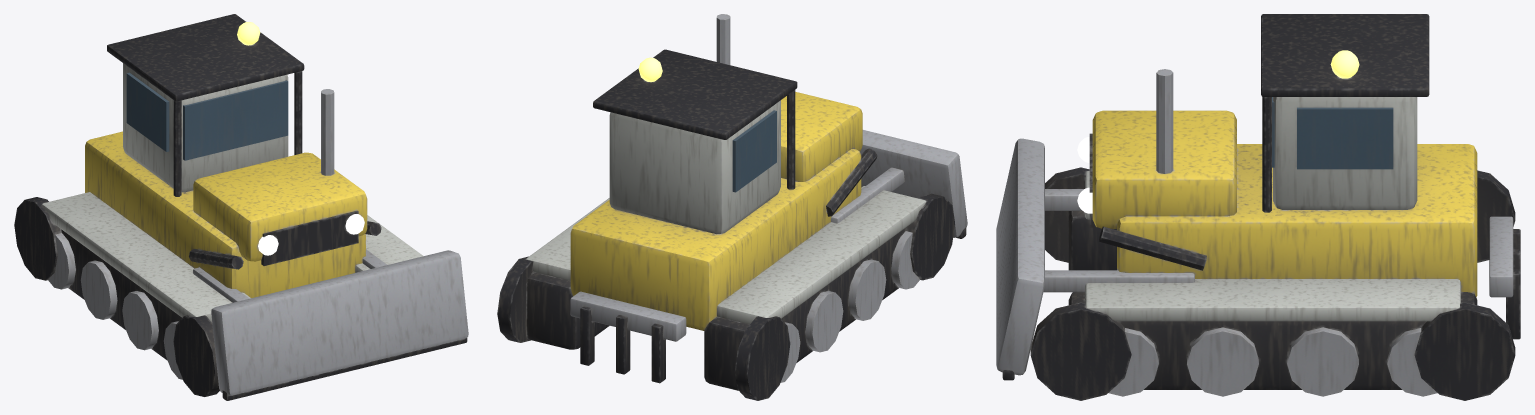
File: dozer.glb
The picture shows the model from 3 angles, left to right: view 1: azimuth 30°, elevation 25°; view 2: azimuth 150°, elevation 25°; view 3: azimuth 270°, elevation 25°; orthographic projection. The views are drawn at different scales.
Visible parts, largest first — view 1: Hull; view 2: Hull; view 3: Hull.
Part boxes in pixels (left/top/right/bottom): Hull: left=14, top=14, right=468, bottom=400; Hull: left=497, top=14, right=967, bottom=400; Hull: left=996, top=14, right=1520, bottom=400.
Size of the model in its own units: 2.8 by 2.79 by 4.36.
7 materials, 7 textured.
